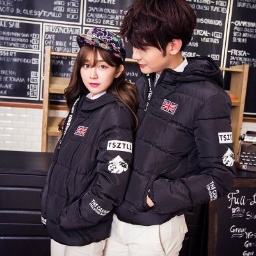face: (123, 2, 197, 73), (71, 38, 126, 97)
